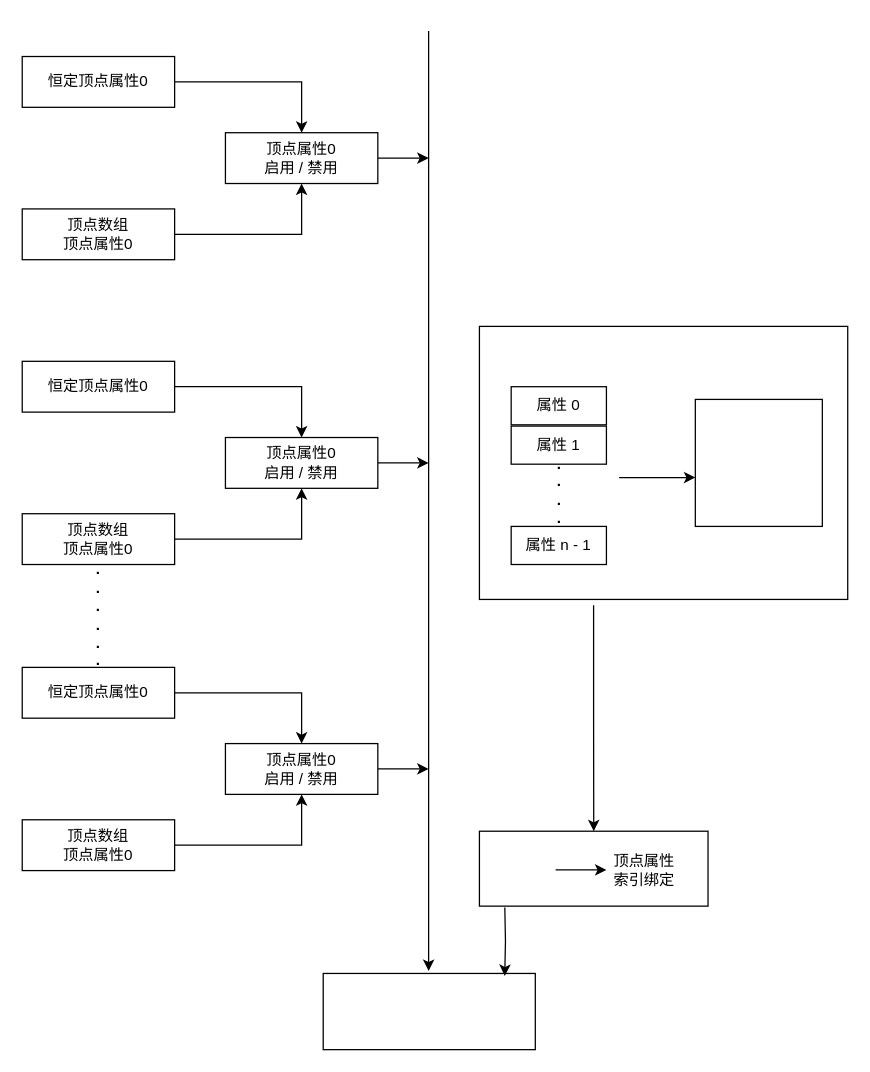
Some shapes in this 870 by 1072 pixel diagram are drawn without their labels. Each missing label, with the box of its shape:
glDrawArrays / glDrawElements: (322, 972, 535, 1050)
属性变量: (478, 830, 708, 906)
顶点着色器: (694, 398, 822, 526)
